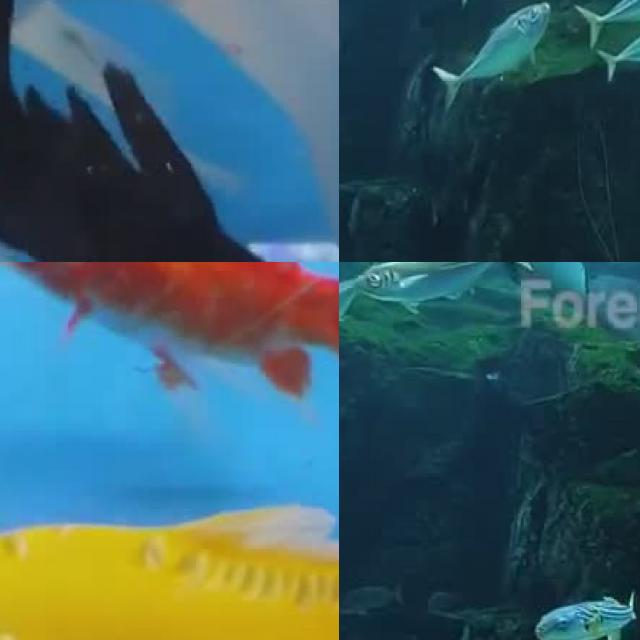fish: (0, 0, 339, 262), (0, 262, 194, 360)
